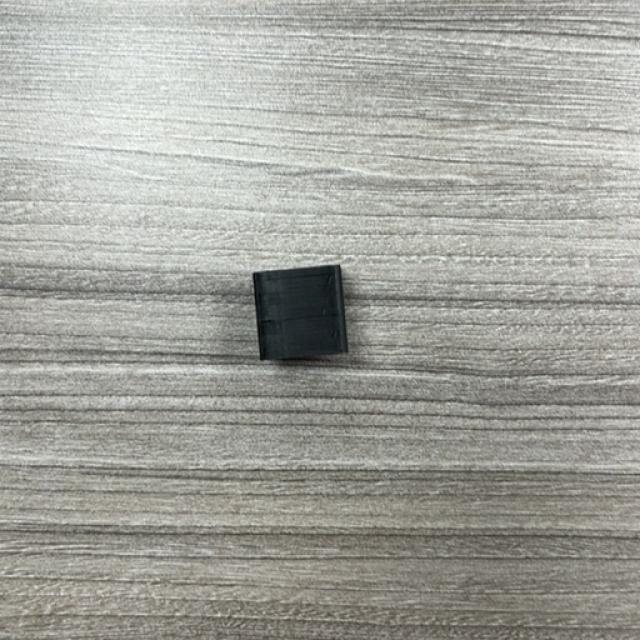Negro: (252, 265, 349, 361)
